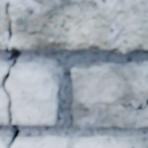brick: (72, 62, 147, 128)
broken_brick: (0, 0, 147, 54), (7, 62, 60, 126), (13, 135, 147, 147), (0, 92, 7, 125), (0, 62, 8, 87), (0, 135, 8, 147)
crack: (0, 2, 22, 147)
